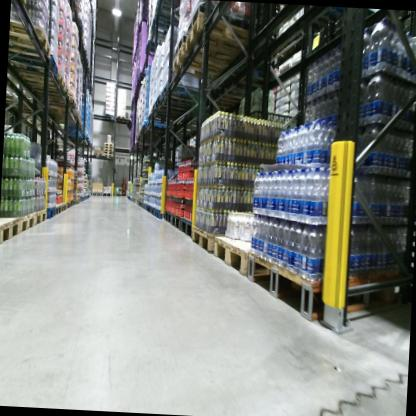pallet: (244, 246, 412, 334), (183, 8, 252, 64), (211, 231, 281, 278), (171, 42, 233, 85), (8, 18, 53, 64), (7, 43, 60, 78), (14, 59, 67, 91), (227, 57, 275, 89), (190, 222, 231, 258), (160, 80, 206, 109), (30, 82, 78, 108), (27, 78, 72, 101), (0, 213, 21, 248), (18, 209, 36, 235), (180, 215, 195, 241), (34, 207, 47, 226), (170, 213, 182, 233), (45, 204, 57, 221), (163, 209, 173, 226), (58, 200, 67, 213), (90, 191, 112, 196), (53, 203, 62, 215), (92, 149, 103, 157), (103, 140, 115, 147), (116, 113, 126, 120), (11, 0, 28, 4), (65, 200, 71, 211), (74, 195, 81, 203), (104, 113, 115, 118), (68, 198, 74, 207), (103, 148, 113, 153), (103, 153, 113, 157), (103, 146, 114, 149), (103, 151, 113, 154), (72, 199, 77, 204)
